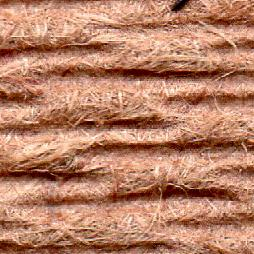egg: (171, 0, 189, 10)
